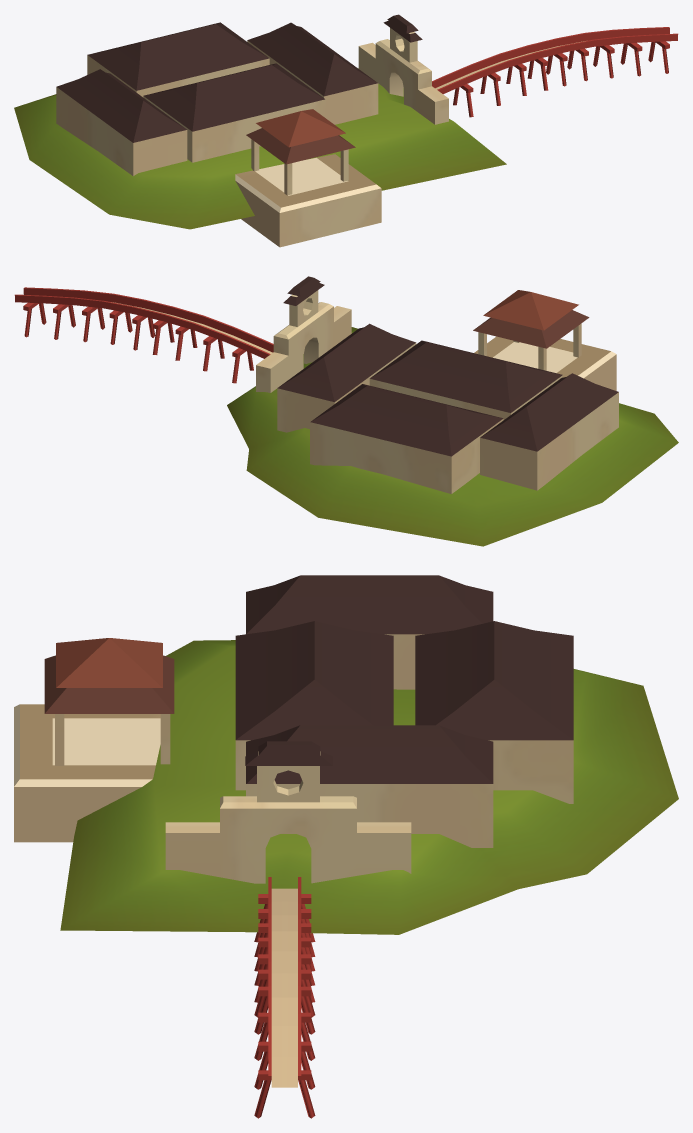
File: SM_Building_Ngoc_Son.fbx
The picture shows the model from 3 angles, top to bottom: view 1: azimuth 30°, elevation 25°; view 2: azimuth 150°, elevation 25°; view 3: azimuth 270°, elevation 25°; orthographic projection. The views are drawn at different scales.
Parts seen in each view (by area): view 1: SM_Building_Ngoc_Son; view 2: SM_Building_Ngoc_Son; view 3: SM_Building_Ngoc_Son.
Part boxes in pixels (left/top/right/bottom): SM_Building_Ngoc_Son: left=14, top=14, right=678, bottom=247; SM_Building_Ngoc_Son: left=14, top=276, right=678, bottom=546; SM_Building_Ngoc_Son: left=14, top=575, right=678, bottom=1118.
Bounding box in the file's own units: 109 × 19.81 × 65.36.
